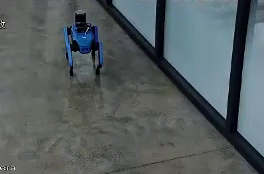robot dog: (58, 9, 112, 81)
